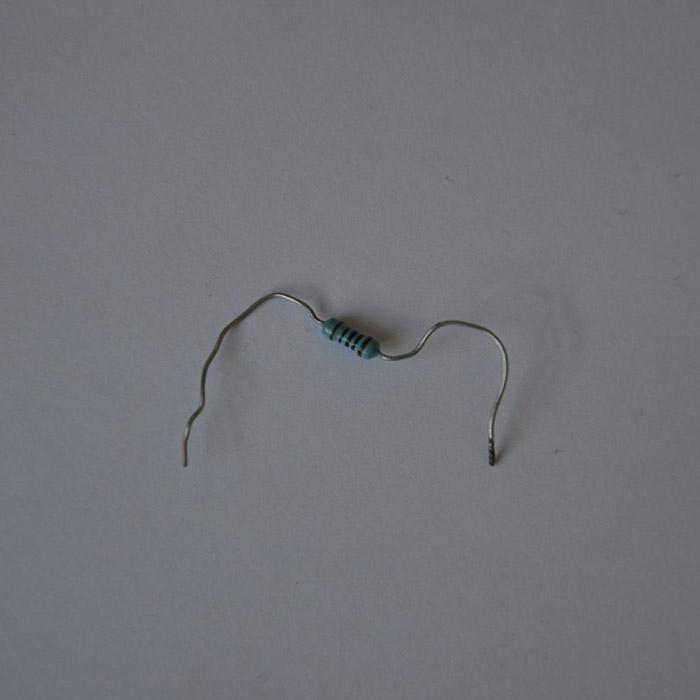resistor: (318, 317, 381, 359)
